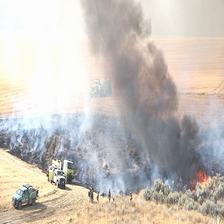fire: (162, 125, 215, 199)
